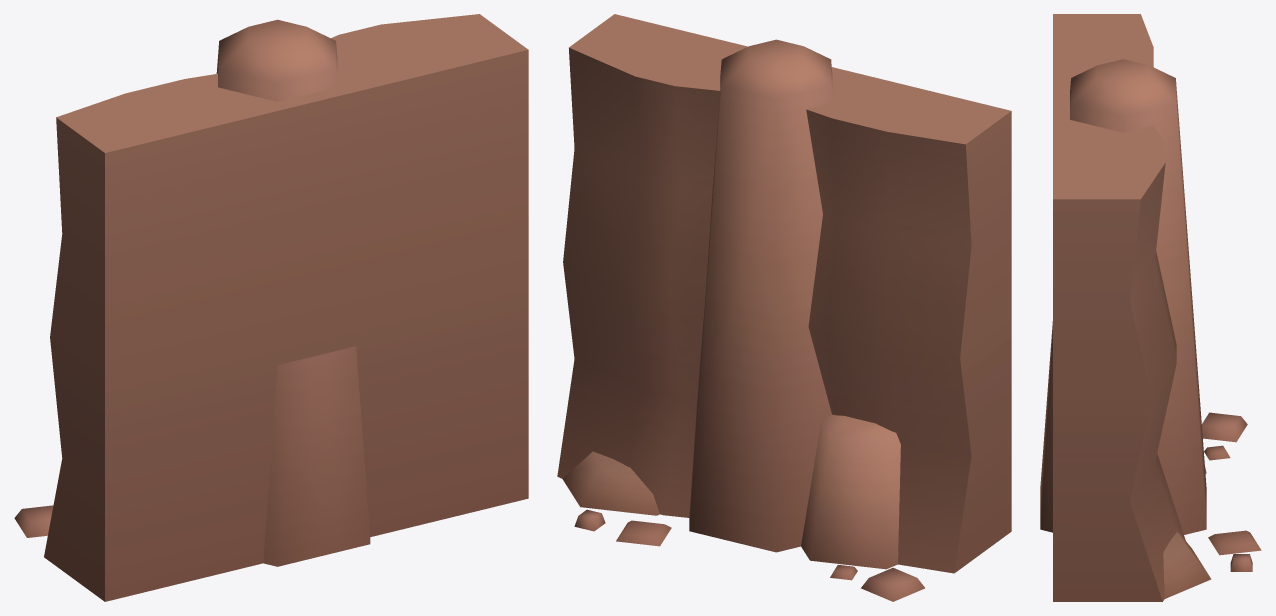
Rendered from template-wall-detail-a.glb.
The picture shows the model from 3 angles, left to right: view 1: azimuth 30°, elevation 25°; view 2: azimuth 150°, elevation 25°; view 3: azimuth 270°, elevation 25°; orthographic projection. The views are drawn at different scales.
Visible parts, largest first — view 1: template-wall-detail-a; view 2: template-wall-detail-a; view 3: template-wall-detail-a.
Part boxes in pixels (bbox=[...]): template-wall-detail-a: bbox=[14, 14, 528, 601]; template-wall-detail-a: bbox=[557, 14, 1011, 601]; template-wall-detail-a: bbox=[1040, 14, 1261, 601].
Bounding box in the file's own units: 4 × 4.4 × 2.02.
1 material, 1 textured.
